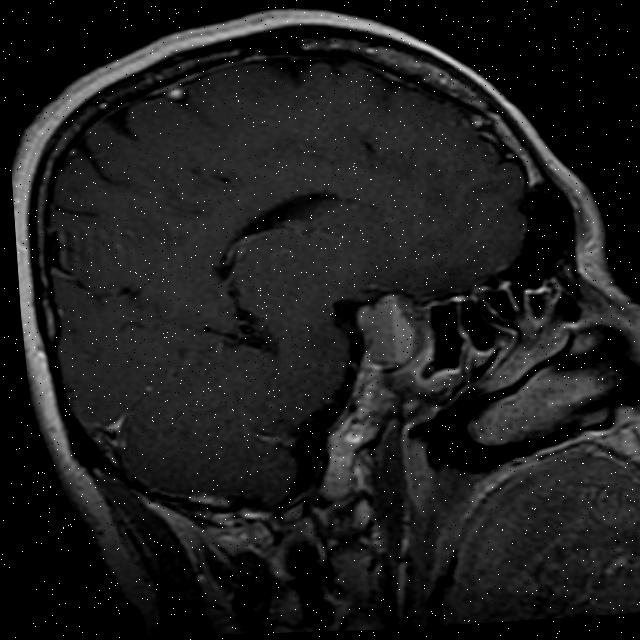Pituitary: (350, 291, 420, 371)
